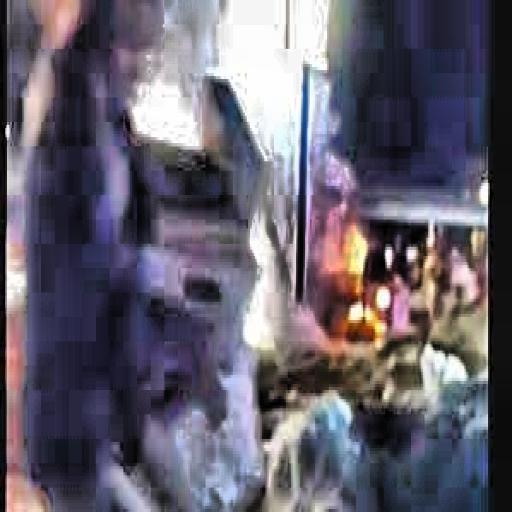fire: (296, 189, 409, 357)
